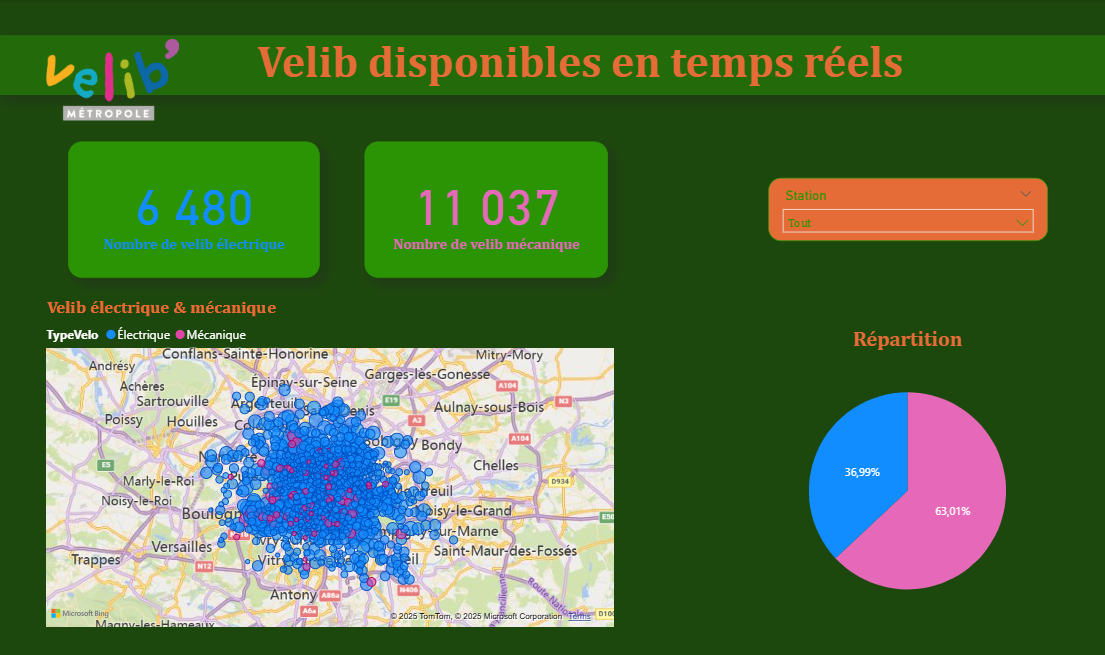

The dashboard page shown, as its layout file describes it:
{"tool":"powerbi","page":{"name":"Page 1","canvas":[1280,720],"ordinal":0},"visuals":[{"type":"map","title":"Velib électrique & mécanique","fields":{"X":["station_information.lon"],"Y":["station_information.lat"],"Size":["Sum(station_status.Velo_dispo)"],"Series":["station_status.TypeVelo"]},"box":[49.4,326.6,632.6,367.8],"z":0},{"type":"card","fields":{"Values":["Sum(station_status.Nombre_mecanique)"]},"box":[403.4,156.4,267.6,149.6],"z":1000},{"type":"card","fields":{"Values":["Sum(station_status.Nombre_electrique)"]},"box":[78.2,156.4,275.8,149.6],"z":2000},{"type":"slicer","fields":{"Values":["station_information.nom_station"]},"box":[846.7,196.2,307.4,70],"z":3000},{"type":"actionButton","box":[0,0,100,40],"z":4000},{"type":"textbox","title":"Velib disponibles en temps réels","box":[0,39.8,1280.3,65.9],"z":5000},{"type":"image","box":[49.4,20.6,155.1,135.8],"z":6000},{"type":"pieChart","title":"Répartition","fields":{"Y":["Sum(station_status.Nombre_mecanique)","Sum(station_status.Nombre_electrique)"]},"box":[790.4,359.5,418.5,334.8],"z":7000}]}

Visuals, with their boxes on the page's 1280x720 design canvas (x1, y1, x2, y2). These are canvas units, not pixel positions in the 1105x655 screenshot, which may show the page scaled, cropped or inside an application window:
"Velib électrique & mécanique" map: [49,327,682,694]
card - Sum(station_status.Nombre_mecanique): [403,156,671,306]
card - Sum(station_status.Nombre_electrique): [78,156,354,306]
slicer - station_information.nom_station: [847,196,1154,266]
actionButton: [0,0,100,40]
"Velib disponibles en temps réels" textbox: [0,40,1280,106]
image: [49,21,204,156]
"Répartition" pieChart: [790,360,1209,694]
